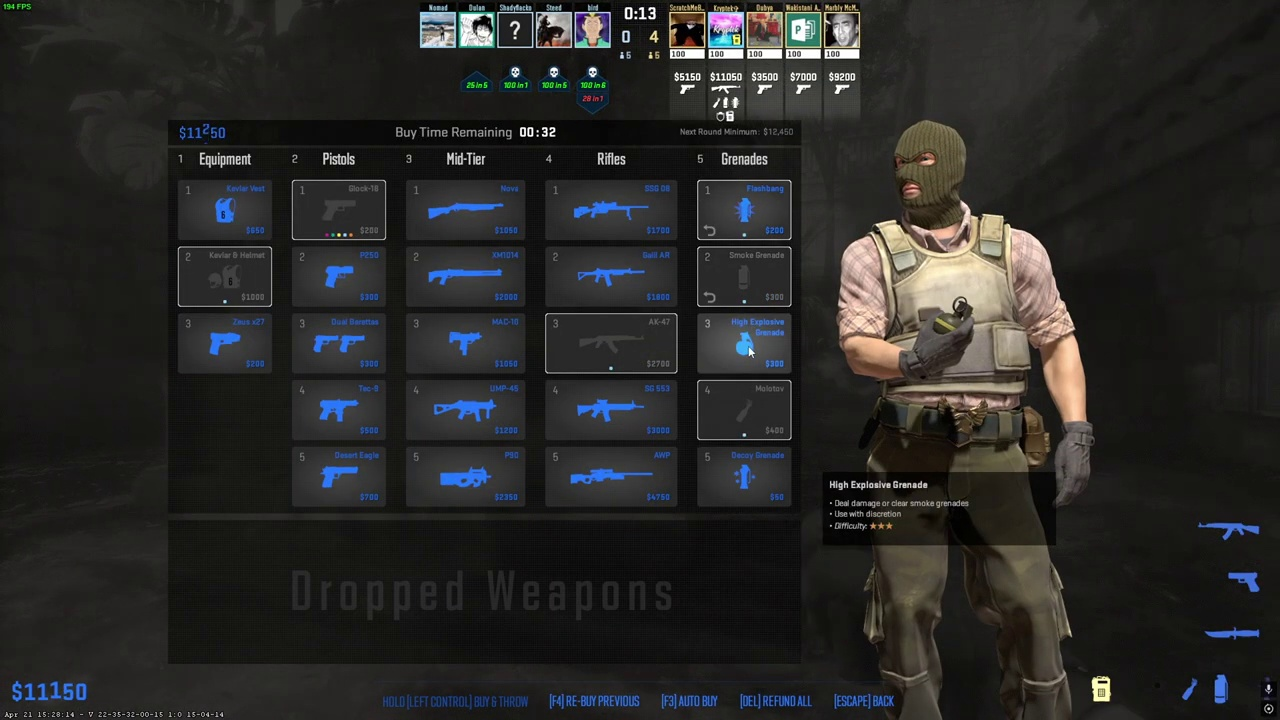Terrorist: (848, 120, 1077, 720)
